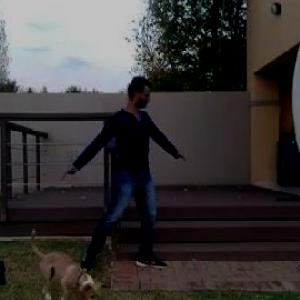land: (51, 73, 188, 271)
